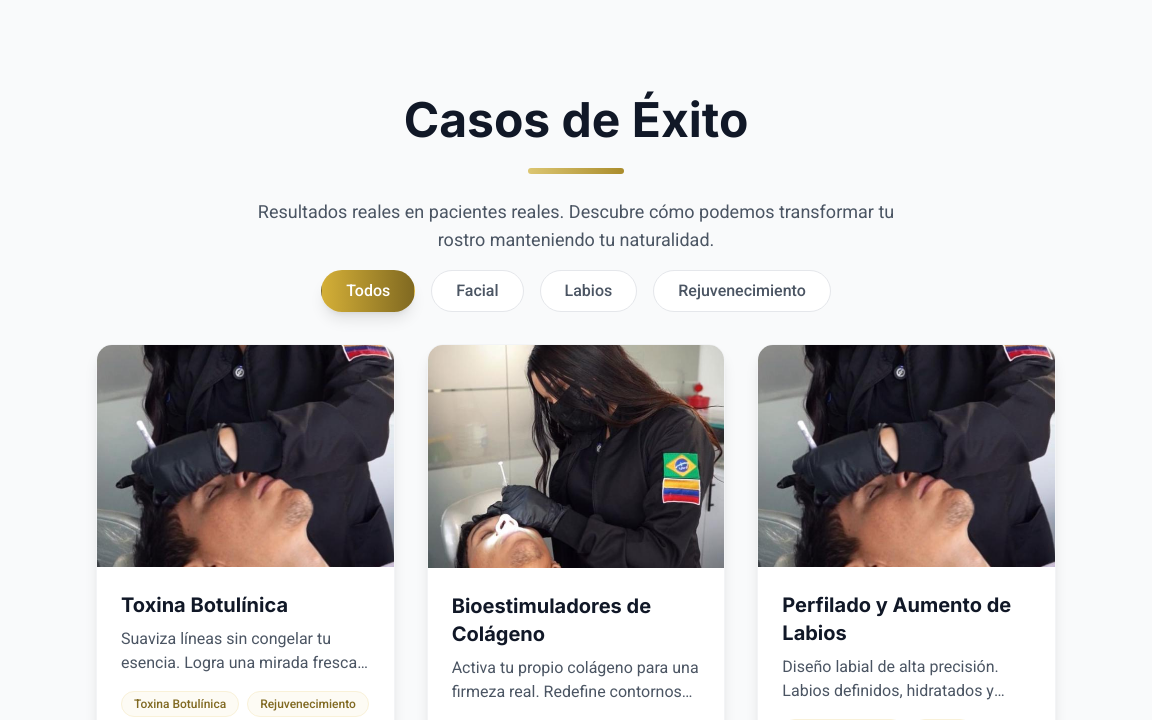
Test case: Portfolio Component › filters projects when clicking a filter
Click the button "Labios".
click(588, 291)  # box [540,270,637,312]
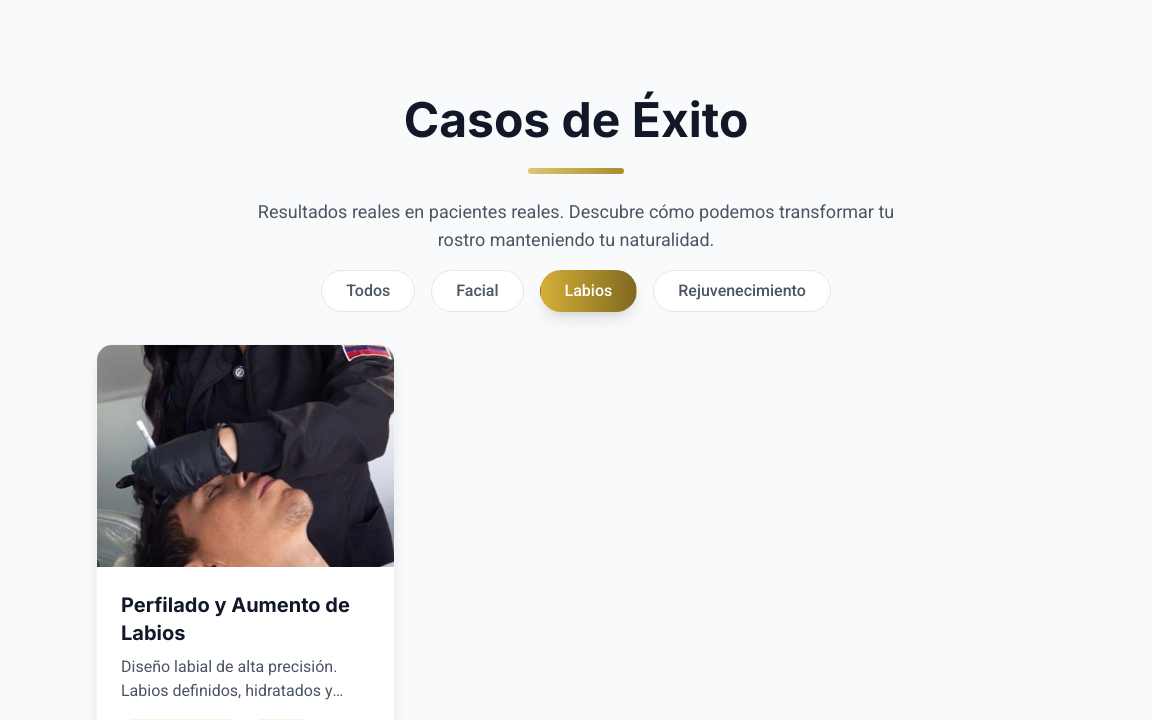
Expected: the heading "Perfilado y Aumento de Labios" is shown, [121,592,370,648]
Result: the heading "Toxina Botulínica" is gone
